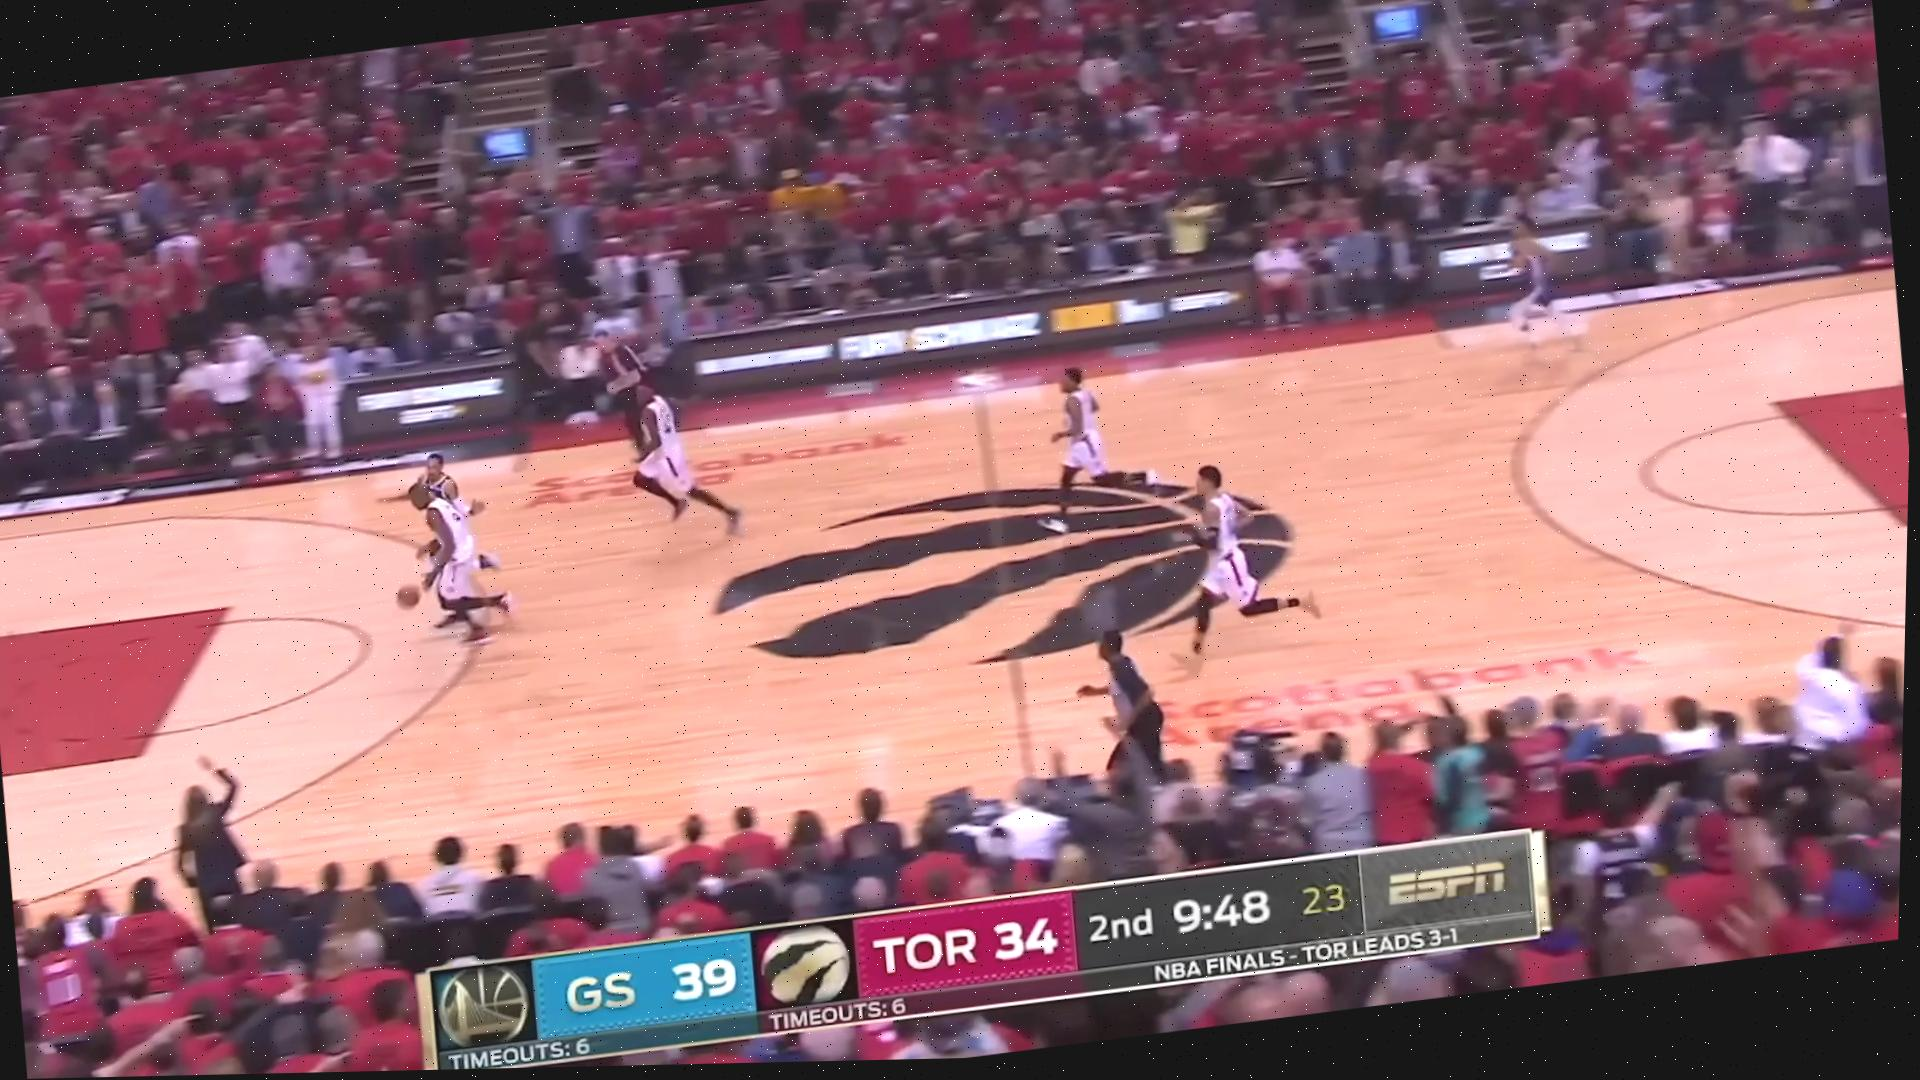no_foul: (345, 427, 539, 671)
